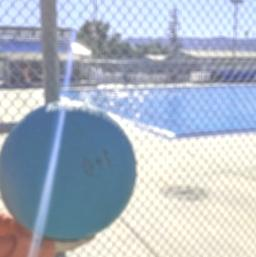algae: (0, 96, 142, 241)
